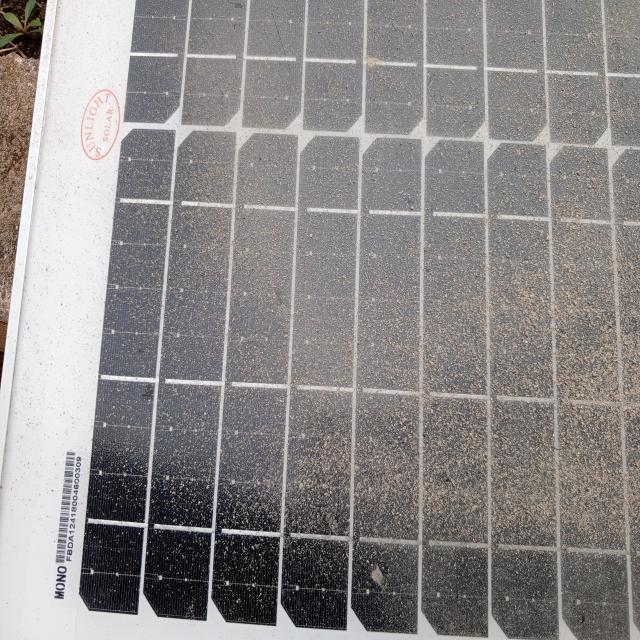Surface Contaminant: (95, 0, 534, 639)
